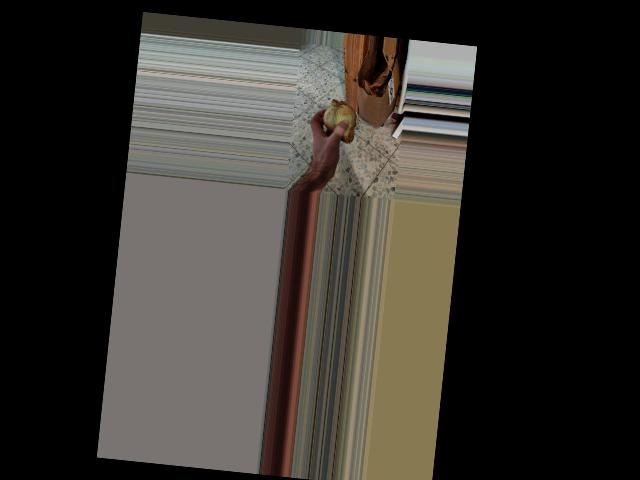onion: (317, 96, 361, 145)
